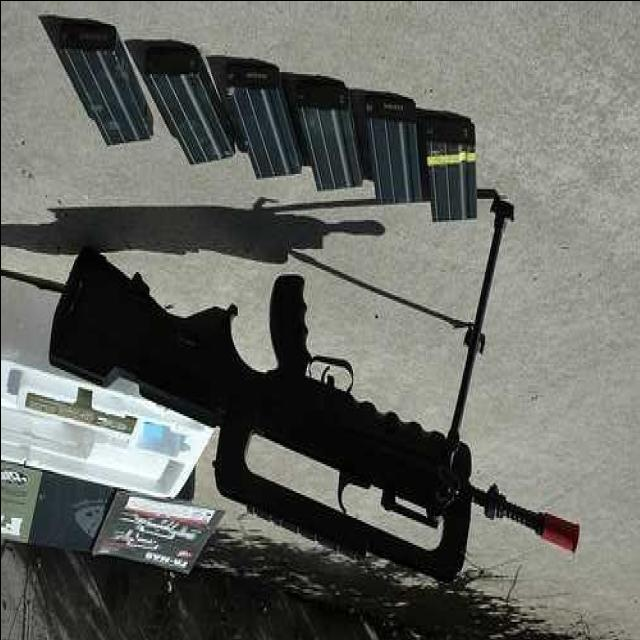heavyweapon: (42, 213, 596, 609)
